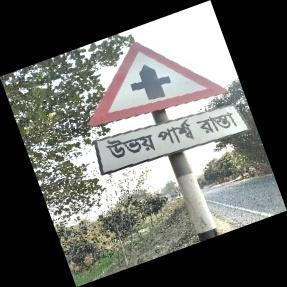Crossroad: (87, 39, 242, 178)
